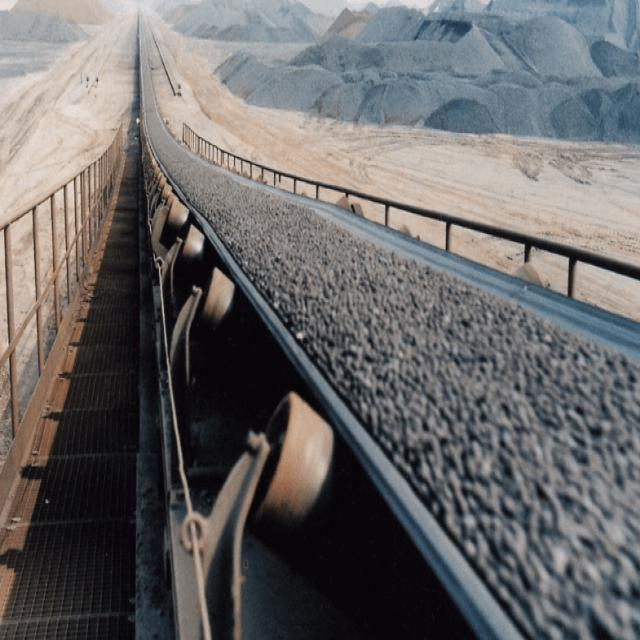conveyor: (129, 9, 637, 640)
